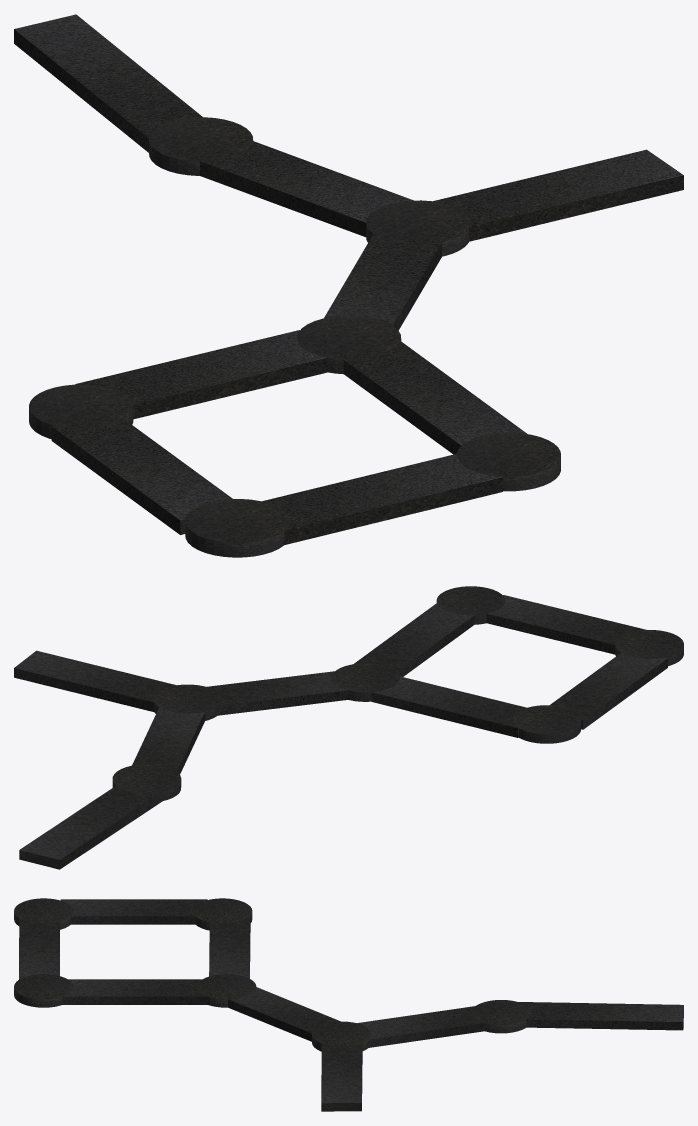
Rendered from calle2.obj.
The picture shows the model from 3 angles, top to bottom: view 1: azimuth 30°, elevation 25°; view 2: azimuth 150°, elevation 25°; view 3: azimuth 270°, elevation 25°; orthographic projection. The views are drawn at different scales.
Visible parts, largest first — view 1: Cube.008_Cube.015, Cube.001_Cube.003, Cube.002_Cube.011, Cube.004_Cube.007, Cube.005_Cube.012, Cube.003_Cube.006, Cube.007_Cube.014, Cube.006_Cube.013, Cylinder.002_Cylinder.009, Cylinder.003_Cylinder.010, Cylinder.005_Cylinder.012, Cylinder_Cylinder.007 (+2 smaller); view 2: Cube.001_Cube.003, Cube.008_Cube.015, Cube.004_Cube.007, Cube.002_Cube.011, Cube.005_Cube.012, Cube.006_Cube.013, Cube.003_Cube.006, Cube.007_Cube.014, Cylinder.001_Cylinder.008, Cylinder.004_Cylinder.011, Cylinder.005_Cylinder.012, Cylinder.002_Cylinder.009 (+2 smaller); view 3: Cube.001_Cube.003, Cube.003_Cube.006, Cube.005_Cube.012, Cube.007_Cube.014, Cube.008_Cube.015, Cube.006_Cube.013, Cube.004_Cube.007, Cube.002_Cube.011, Cylinder.003_Cylinder.010, Cylinder.005_Cylinder.012, Cylinder.004_Cylinder.011, Cylinder.001_Cylinder.008 (+2 smaller).
Boxes of the visible parts, x1,y1,x2,y2 form: Cube.008_Cube.015: (433, 149, 683, 241); Cube.001_Cube.003: (14, 14, 202, 152); Cube.002_Cube.011: (262, 454, 502, 544); Cube.004_Cube.007: (75, 330, 327, 419); Cube.005_Cube.012: (51, 419, 232, 534); Cube.003_Cube.006: (343, 341, 526, 454); Cube.007_Cube.014: (200, 141, 413, 237); Cube.006_Cube.013: (324, 234, 441, 330); Cylinder.002_Cylinder.009: (185, 499, 289, 557); Cylinder.003_Cylinder.010: (457, 432, 560, 491); Cylinder.005_Cylinder.012: (149, 117, 253, 175); Cylinder_Cylinder.007: (366, 200, 470, 256); Cube.001_Cube.003: (19, 785, 162, 869); Cube.008_Cube.015: (14, 650, 176, 711); Cube.004_Cube.007: (371, 676, 526, 737); Cube.002_Cube.011: (486, 595, 646, 654); Cube.005_Cube.012: (550, 652, 667, 729); Cube.006_Cube.013: (206, 671, 347, 715); Cube.003_Cube.006: (353, 603, 474, 676); Cube.007_Cube.014: (132, 707, 204, 774); Cylinder.001_Cylinder.008: (512, 705, 580, 743); Cylinder.004_Cylinder.011: (331, 663, 399, 701); Cylinder.005_Cylinder.012: (112, 764, 181, 800); Cylinder.002_Cylinder.009: (615, 630, 683, 665); Cube.001_Cube.003: (518, 1002, 683, 1030); Cube.003_Cube.006: (62, 979, 208, 1004); Cube.005_Cube.012: (60, 899, 207, 924); Cube.007_Cube.014: (357, 1006, 484, 1047); Cube.008_Cube.015: (321, 1043, 362, 1111); Cube.006_Cube.013: (228, 987, 340, 1041); Cube.004_Cube.007: (209, 916, 250, 978); Cube.002_Cube.011: (19, 918, 59, 979); Cylinder.003_Cylinder.010: (14, 974, 73, 1007); Cylinder.005_Cylinder.012: (471, 1000, 530, 1033); Cylinder.004_Cylinder.011: (196, 974, 256, 1007); Cylinder.001_Cylinder.008: (192, 898, 252, 930).
Size of the model in its own units: 3289 by 62.84 by 4546.
Materials: 14 (14 with a texture image).
